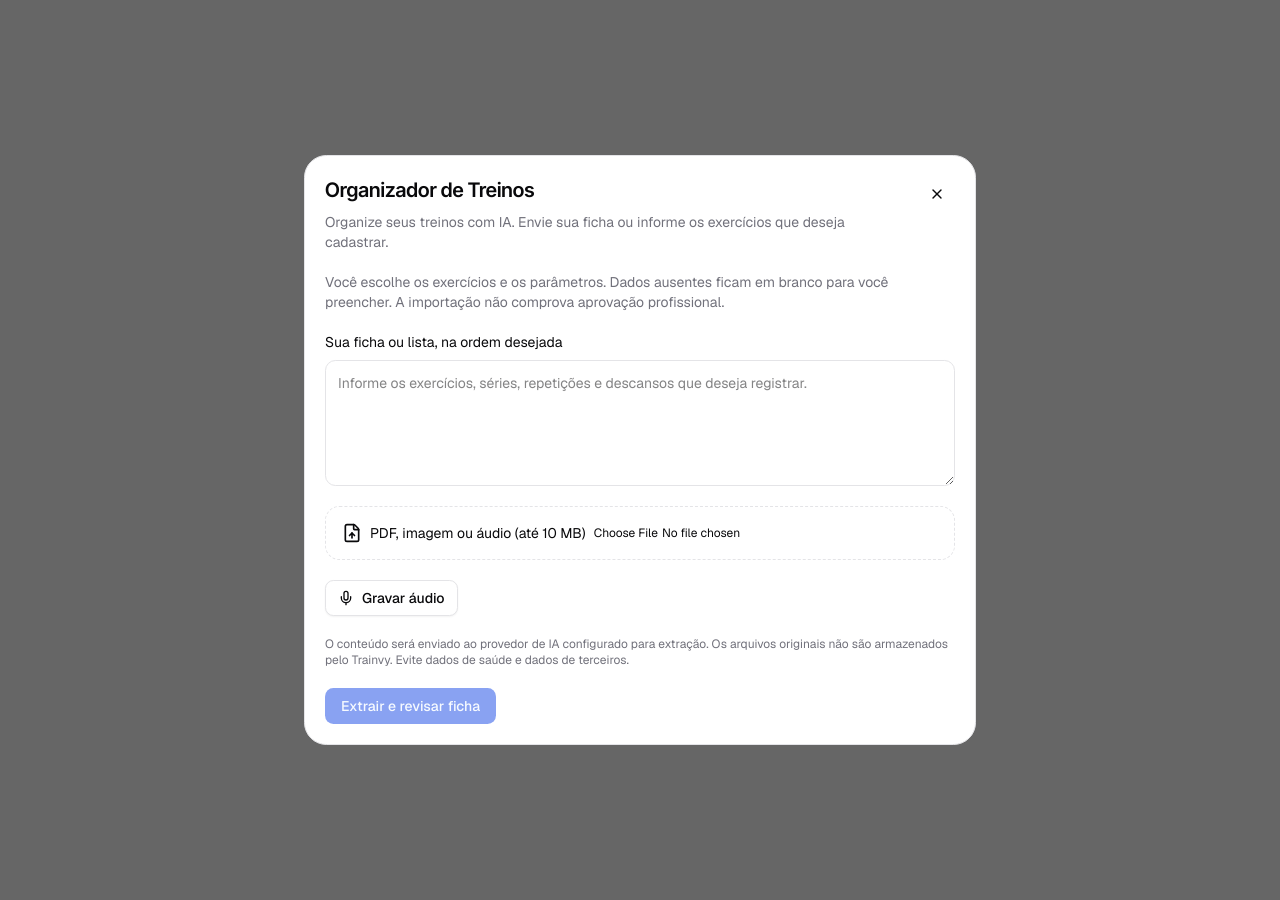
Student workout organizer import › keeps absent parameters blank and does not save the AI response
Replace the text in the text box labelled "Sua ficha ou lista, na ordem desejada" with "Supino" at (640, 423), box x1=325 y1=360 x2=955 y2=486
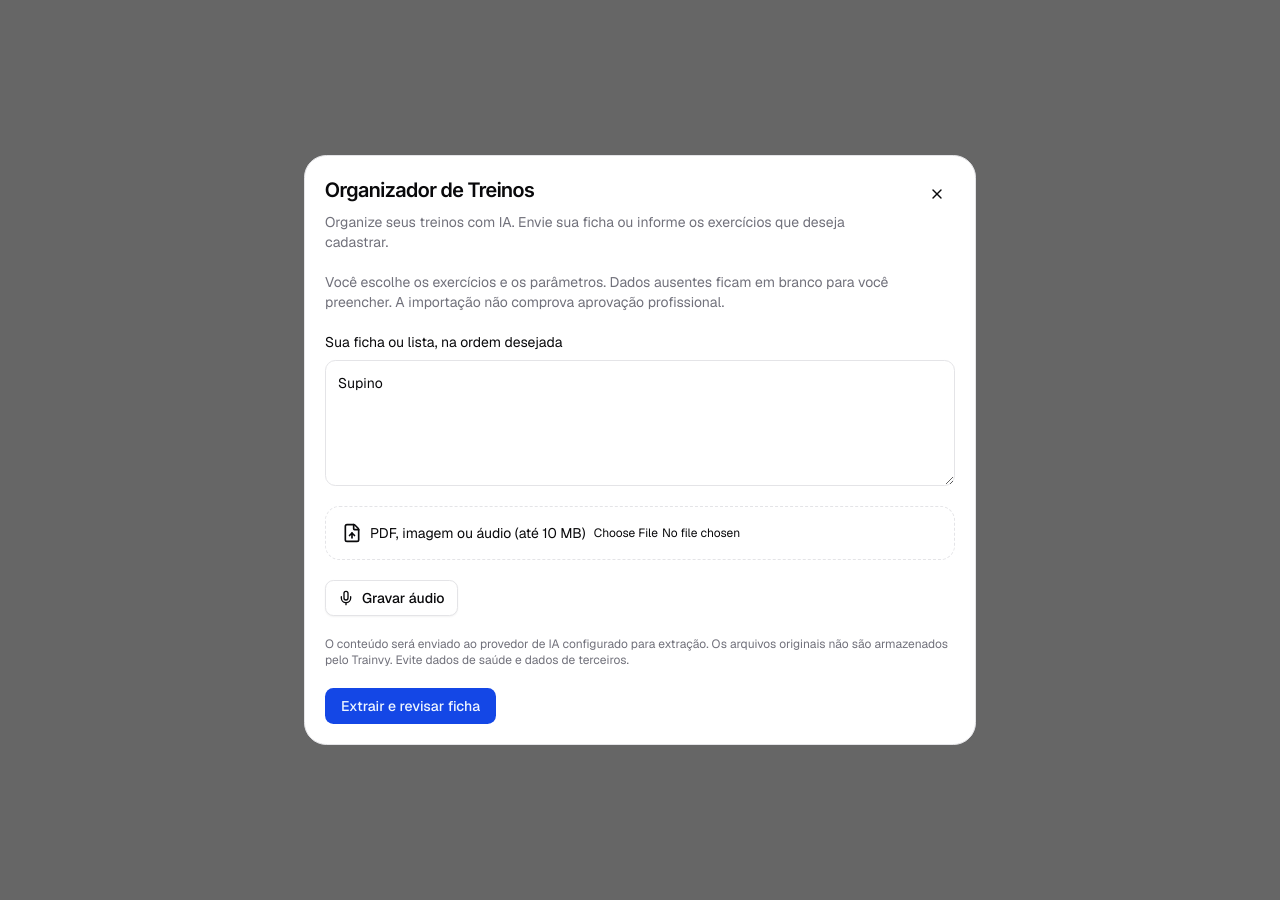
Click the button "Extrair e revisar ficha" at (411, 706), box x1=325 y1=688 x2=496 y2=724
(page scrolled)
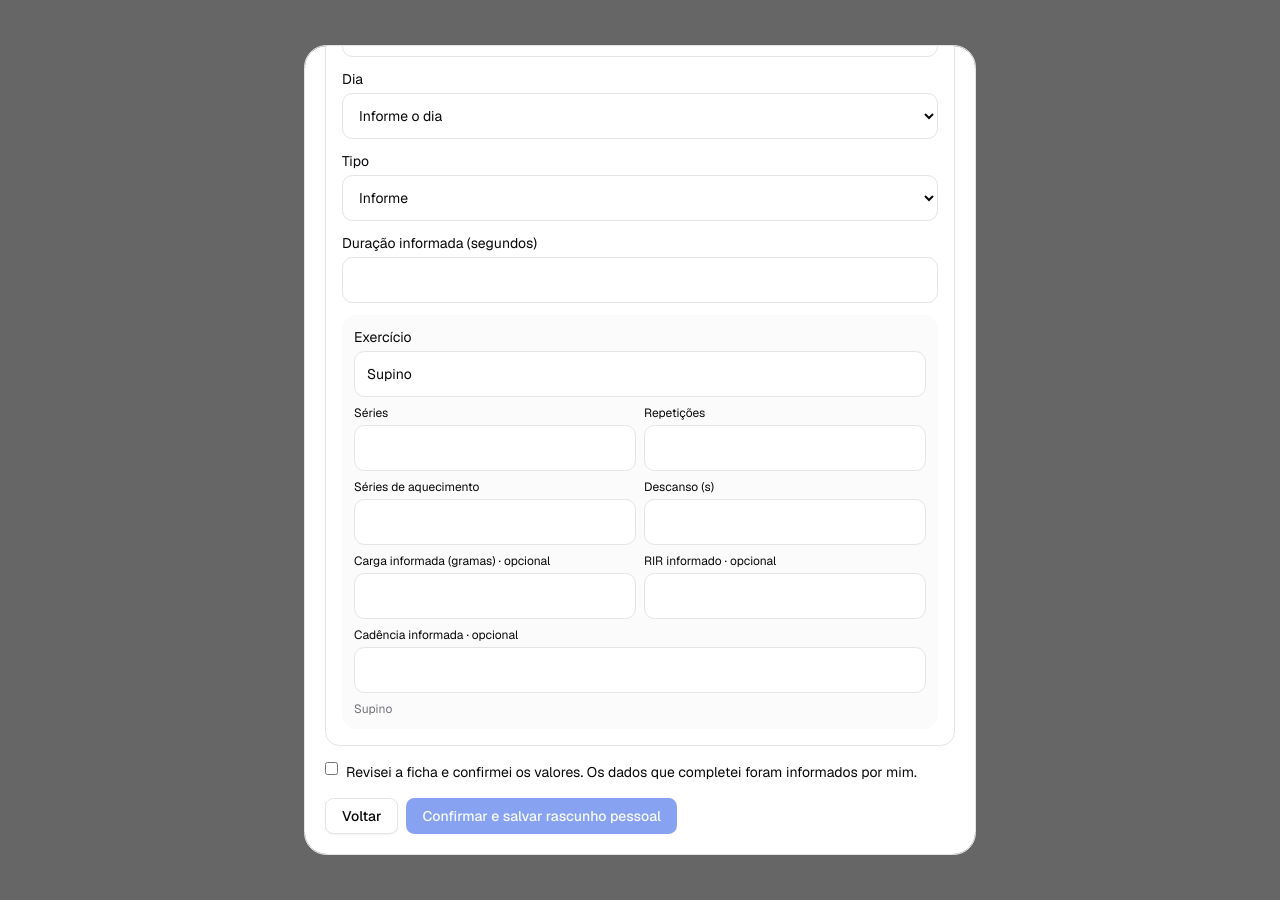
Expected: the number field labelled "Séries" is empty, x1=354 y1=425 x2=636 y2=471
Result: the number field labelled "Descanso (s)" is empty at x1=644 y1=499 x2=926 y2=545
Result: the button "Confirmar e salvar rascunho pessoal" is disabled at x1=406 y1=798 x2=677 y2=834
